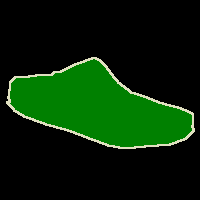shoe: (7, 57, 194, 148)
